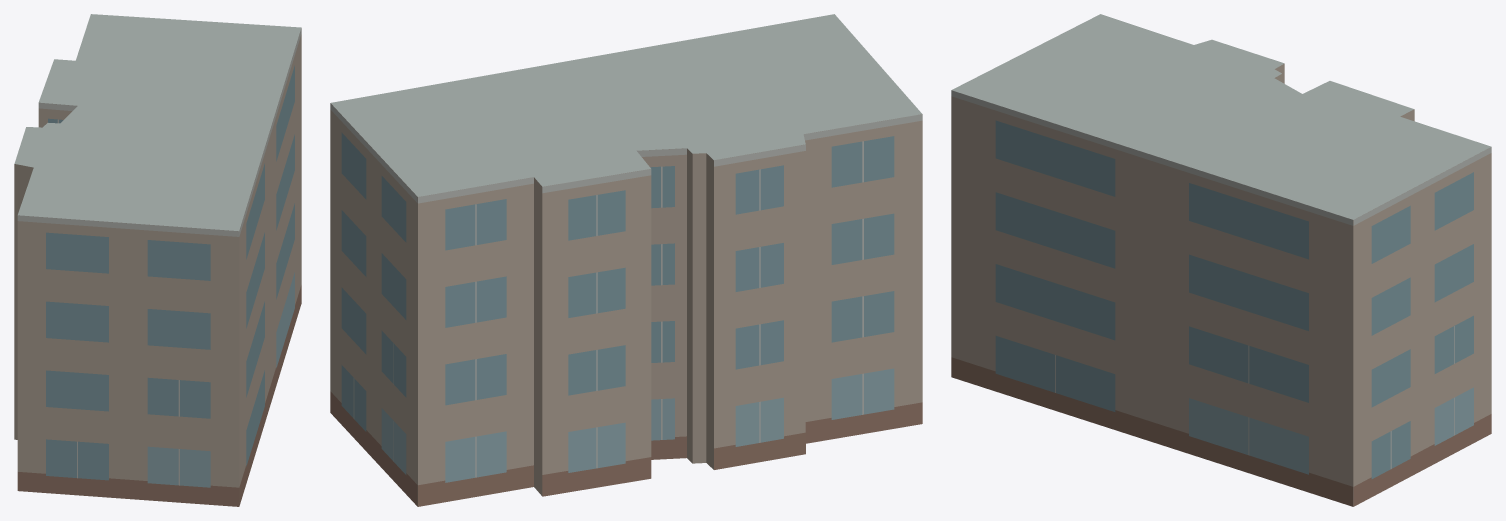
File: survey-upis-32938814.glb
3 views of the same model, side by side, from view 1: azimuth 30°, elevation 25°; view 2: azimuth 150°, elevation 25°; view 3: azimuth 270°, elevation 25° (orthographic). The views are drawn at different scales.
Visible parts, largest first — view 1: survey-upis-32938814.tmp; view 2: survey-upis-32938814.tmp; view 3: survey-upis-32938814.tmp.
Part boxes in pixels (x1,y1,x2,y2): survey-upis-32938814.tmp: (14, 14, 301, 506); survey-upis-32938814.tmp: (330, 14, 922, 506); survey-upis-32938814.tmp: (951, 14, 1491, 506).
Size of the model in its own units: 17.86 by 11.6 by 19.81.
